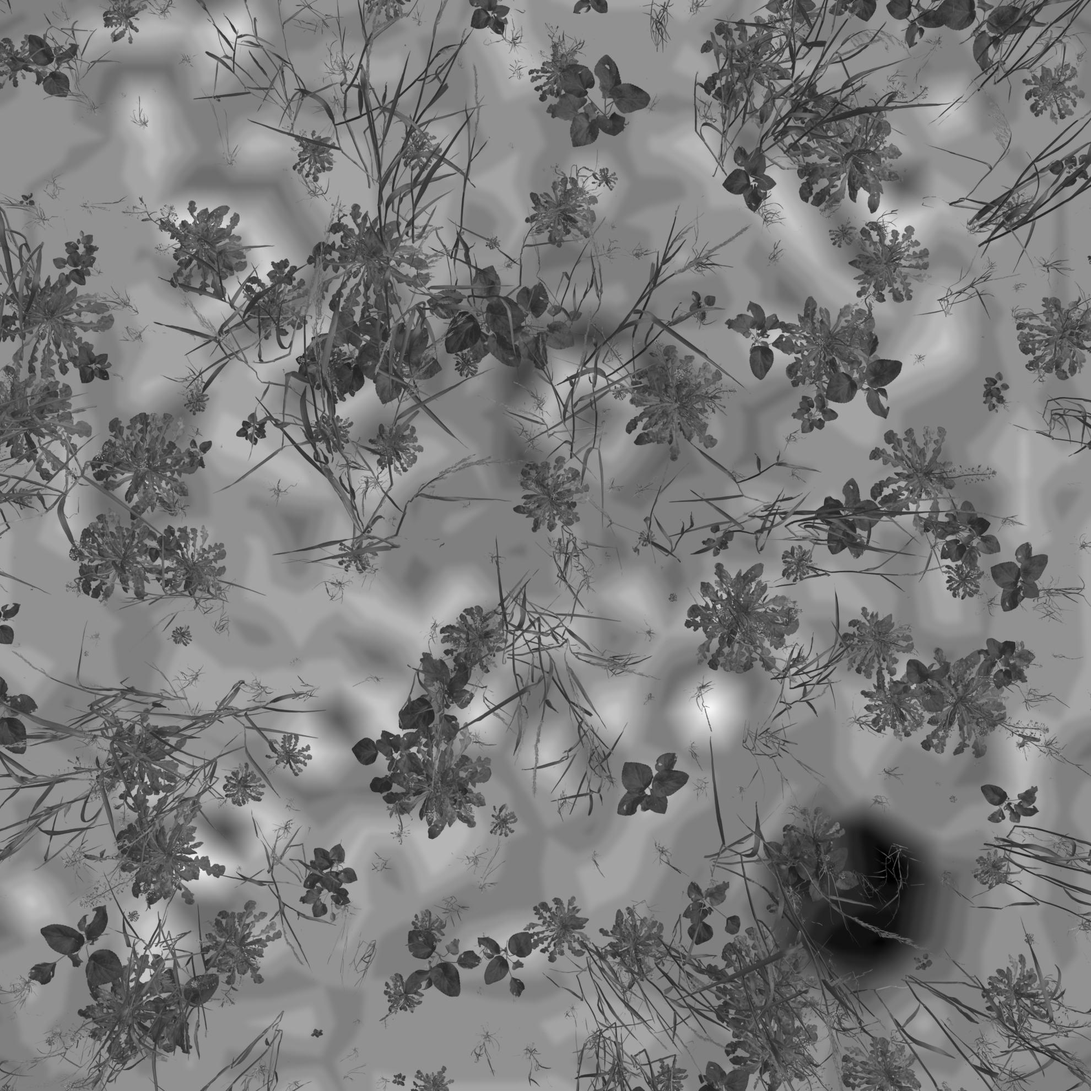landmine: (503, 316, 673, 512), (778, 804, 951, 980)
